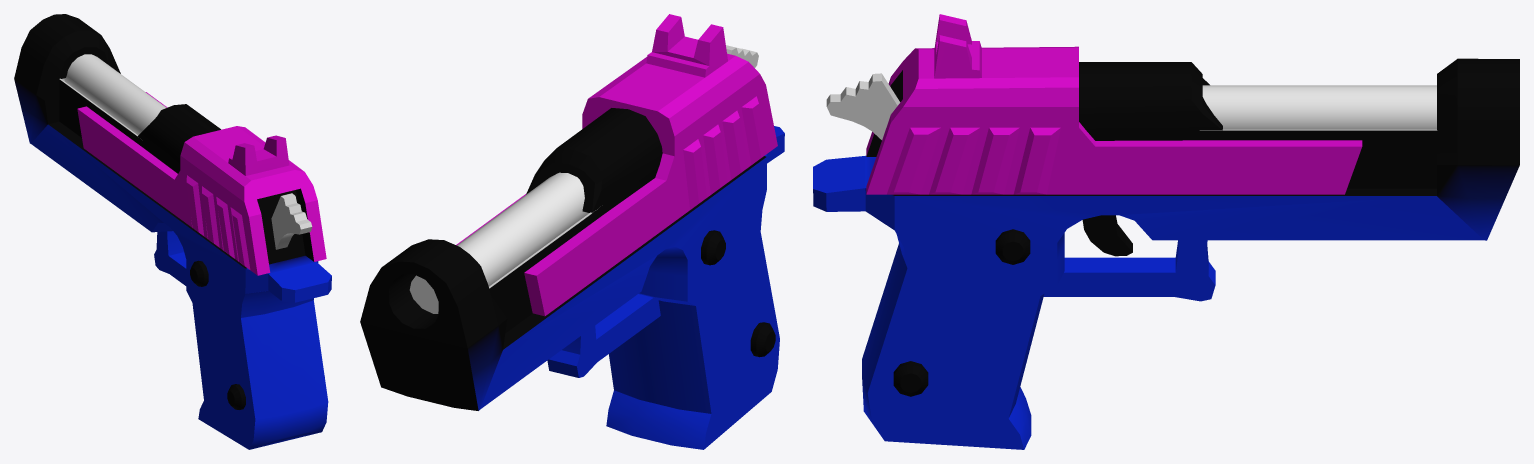
The model's file is Pistol.fbx.
3 views of the same model, side by side, from view 1: azimuth 30°, elevation 25°; view 2: azimuth 150°, elevation 25°; view 3: azimuth 270°, elevation 25° (orthographic). The views are drawn at different scales.
Visible parts, largest first — view 1: Pistol01_mesh.001, Pistol01_mesh.003, Pistols_Piece, Pistol01_mesh.002; view 2: Pistol01_mesh.003, Pistol01_mesh.001, Pistols_Piece; view 3: Pistol01_mesh.003, Pistol01_mesh.001, Pistols_Piece, Pistol01_mesh.002.
Part boxes in pixels (left/top/right/bottom): Pistol01_mesh.001: left=21, top=107, right=331, bottom=449; Pistol01_mesh.003: left=14, top=14, right=326, bottom=275; Pistols_Piece: left=64, top=54, right=166, bottom=135; Pistol01_mesh.002: left=271, top=193, right=312, bottom=249; Pistol01_mesh.003: left=360, top=14, right=777, bottom=374; Pistol01_mesh.001: left=369, top=126, right=784, bottom=449; Pistols_Piece: left=409, top=172, right=589, bottom=313; Pistol01_mesh.003: left=866, top=14, right=1519, bottom=198; Pistol01_mesh.001: left=813, top=155, right=1505, bottom=449; Pistols_Piece: left=1202, top=85, right=1436, bottom=129; Pistol01_mesh.002: left=826, top=73, right=900, bottom=139.
Size of the model in its own units: 0.093 by 0.2857 by 0.4598.
